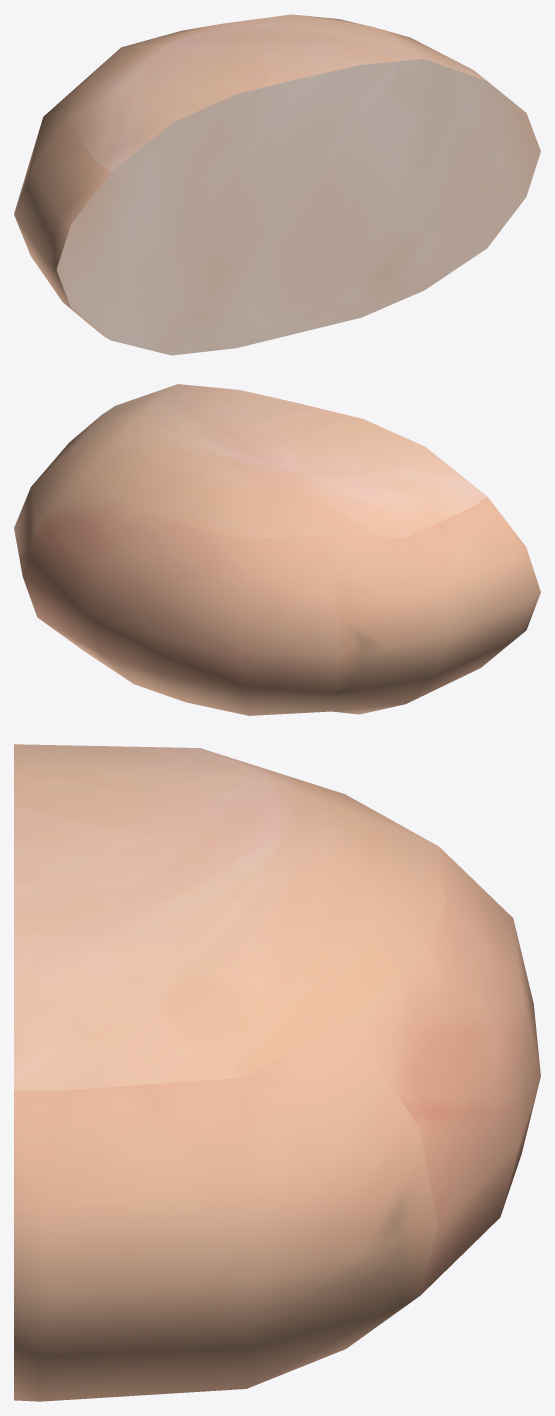
The model's file is chicken_breast_06.fbx.
3 views of the same model, one above another, from view 1: azimuth 30°, elevation 25°; view 2: azimuth 150°, elevation 25°; view 3: azimuth 270°, elevation 25° (orthographic). The views are drawn at different scales.
Parts seen in each view (by area): view 1: chicken_breast_06; view 2: chicken_breast_06; view 3: chicken_breast_06.
Boxes of the visible parts, x1,y1,x2,y2 form: chicken_breast_06: (14, 14, 540, 355); chicken_breast_06: (14, 384, 540, 715); chicken_breast_06: (14, 744, 540, 1401).
Size of the model in its own units: 6.38 by 3.2 by 3.26.
